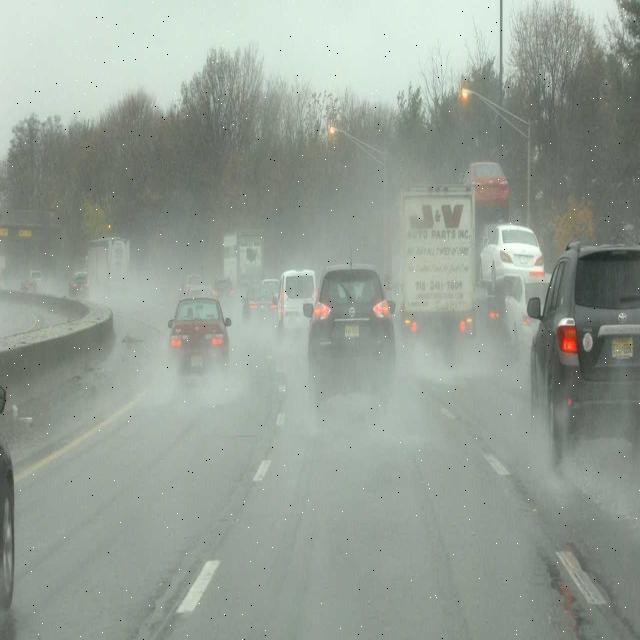bus: (398, 188, 476, 370), (88, 239, 132, 311), (223, 228, 263, 302)
car: (528, 242, 640, 461), (310, 267, 394, 361), (167, 294, 231, 372), (481, 222, 543, 297), (501, 266, 549, 352), (460, 161, 508, 221), (277, 274, 315, 340), (243, 288, 275, 322), (67, 271, 89, 299)
